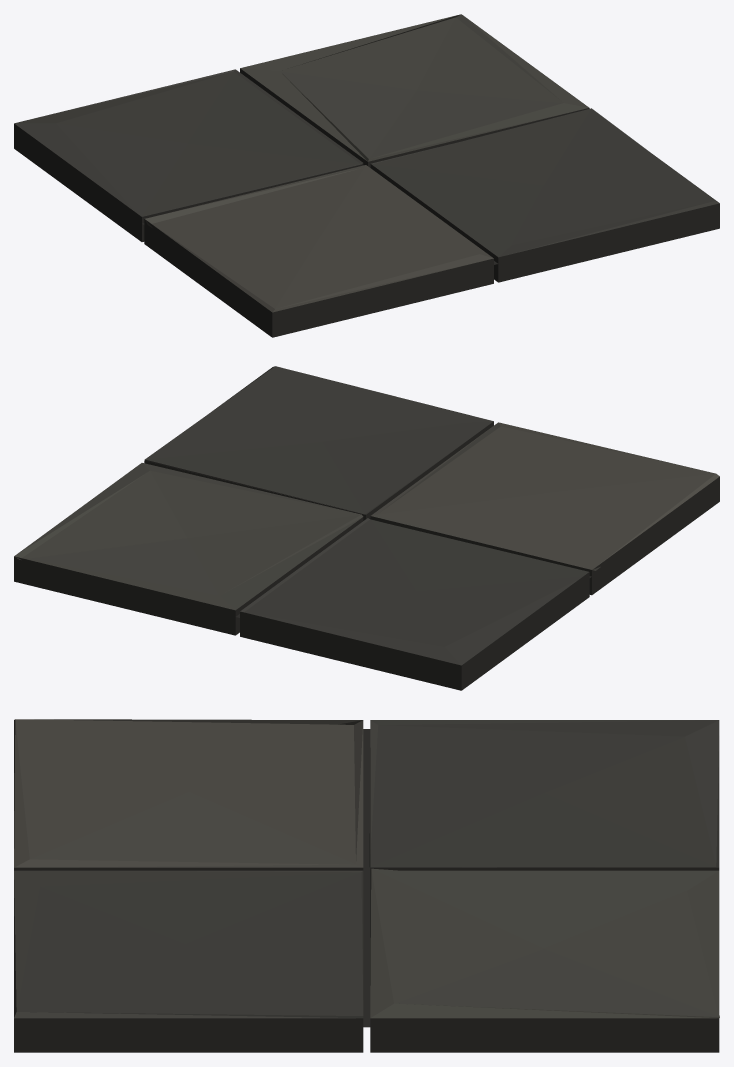
File: SM_Ground_Road_02.fbx
3 renders of one model, top to bottom at view 1: azimuth 30°, elevation 25°; view 2: azimuth 150°, elevation 25°; view 3: azimuth 270°, elevation 25°, orthographic. The views are drawn at different scales.
Parts seen in each view (by area): view 1: SM_Ground_Road_02; view 2: SM_Ground_Road_02; view 3: SM_Ground_Road_02.
Boxes of the visible parts, <box> form: SM_Ground_Road_02: <box>14,14,719,337</box>; SM_Ground_Road_02: <box>14,366,719,690</box>; SM_Ground_Road_02: <box>14,719,719,1052</box>.
Bounding box in the file's own units: 1 × 0.0598 × 1.
Materials: 1 (1 with a texture image).
